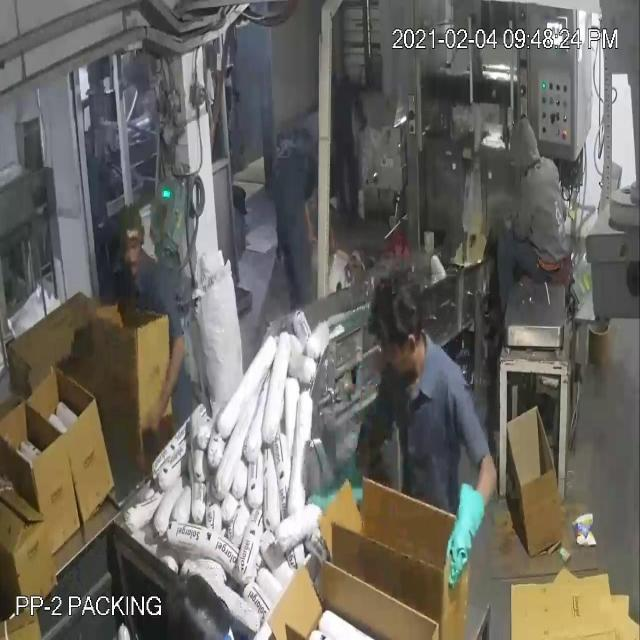No_Gloves: (50, 84, 464, 536)
